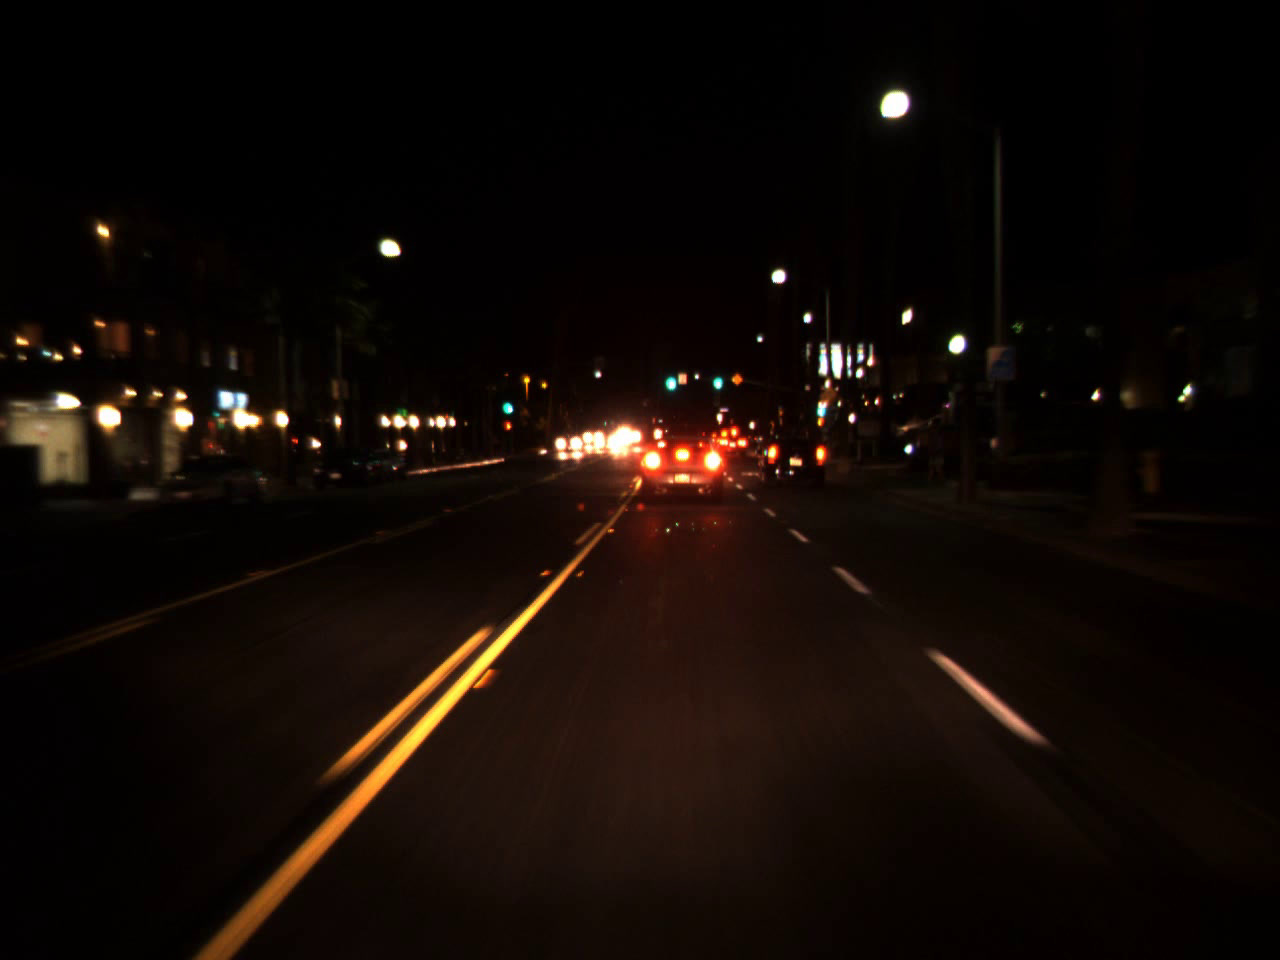go: (661, 360, 679, 396), (710, 363, 724, 393), (501, 390, 511, 417)
